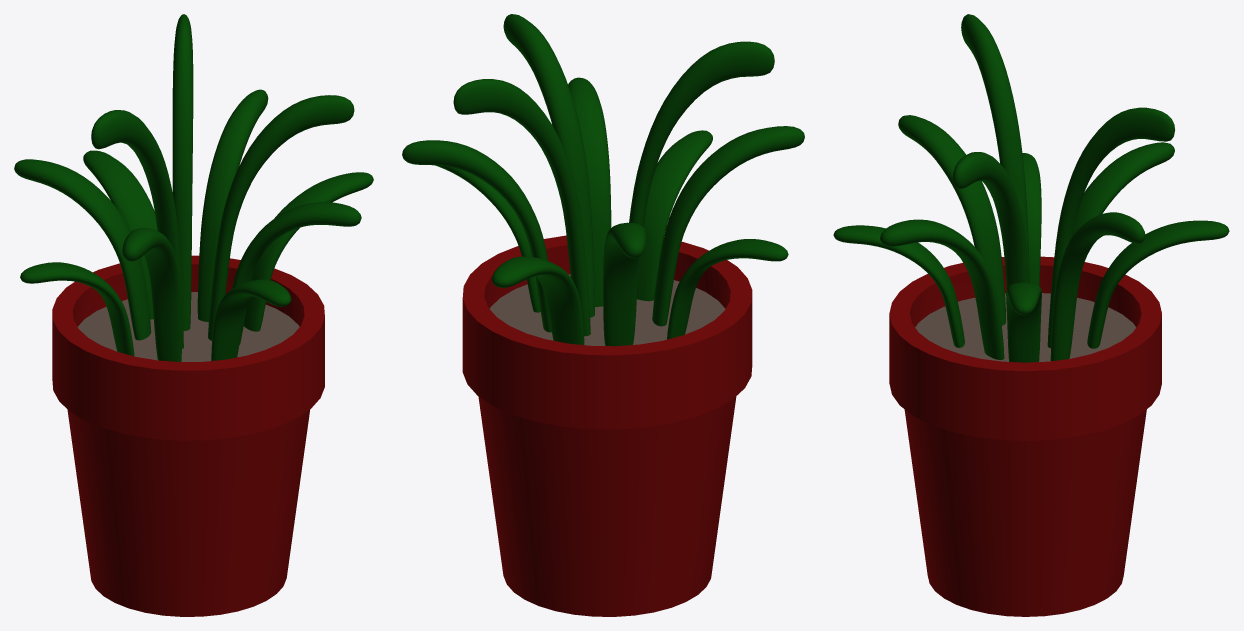
Rendered from Plante1_4.fbx.
3 views of the same model, side by side, from view 1: azimuth 30°, elevation 25°; view 2: azimuth 150°, elevation 25°; view 3: azimuth 270°, elevation 25° (orthographic). The views are drawn at different scales.
Parts seen in each view (by area): view 1: pCylinder732, pCube1946, pCube1949, pCube1943, pCube1948, pCylinder733, pCube1950, pCube1941, pCube1942, pCube1947, pCube1944, pCube1945 (+1 smaller); view 2: pCylinder732, pCube1949, pCube1950, pCube1946, pCube1941, pCylinder733, pCube1943, pCube1945, pCube1947, pCube1948, pCube1942, pCube1940 (+1 smaller); view 3: pCylinder732, pCylinder733, pCube1949, pCube1950, pCube1941, pCube1947, pCube1943, pCube1946, pCube1942, pCube1948, pCube1945, pCube1944 (+1 smaller).
Boxes of the visible parts, bbox=[...] form: pCylinder732: bbox=[52, 255, 324, 616]; pCube1946: bbox=[208, 95, 354, 340]; pCube1949: bbox=[172, 14, 193, 330]; pCube1943: bbox=[197, 89, 268, 322]; pCube1948: bbox=[14, 159, 151, 340]; pCylinder733: bbox=[78, 292, 299, 361]; pCube1950: bbox=[91, 110, 183, 348]; pCube1941: bbox=[122, 228, 181, 361]; pCube1942: bbox=[83, 150, 157, 319]; pCube1947: bbox=[232, 202, 361, 344]; pCube1944: bbox=[243, 172, 373, 331]; pCube1945: bbox=[211, 279, 291, 360]; pCylinder732: bbox=[462, 235, 752, 616]; pCube1949: bbox=[453, 79, 590, 336]; pCube1950: bbox=[629, 41, 774, 287]; pCube1946: bbox=[503, 14, 594, 317]; pCube1941: bbox=[652, 126, 804, 326]; pCylinder733: bbox=[490, 274, 725, 345]; pCube1943: bbox=[402, 140, 551, 332]; pCube1945: bbox=[636, 130, 712, 301]; pCube1947: bbox=[568, 77, 611, 306]; pCube1948: bbox=[603, 222, 646, 346]; pCube1942: bbox=[492, 256, 584, 344]; pCube1940: bbox=[667, 239, 788, 339]; pCylinder732: bbox=[889, 256, 1161, 616]; pCylinder733: bbox=[915, 293, 1135, 361]; pCube1949: bbox=[1047, 107, 1174, 348]; pCube1950: bbox=[961, 14, 1029, 282]; pCube1941: bbox=[898, 115, 1005, 325]; pCube1947: bbox=[880, 219, 1004, 359]; pCube1943: bbox=[1050, 212, 1145, 361]; pCube1946: bbox=[952, 152, 1028, 287]; pCube1942: bbox=[1087, 220, 1229, 348]; pCube1948: bbox=[1073, 142, 1174, 235]; pCube1945: bbox=[833, 225, 964, 347]; pCube1944: bbox=[1006, 282, 1041, 362].
Size of the model in its own units: 16.65 by 22.94 by 16.27.
